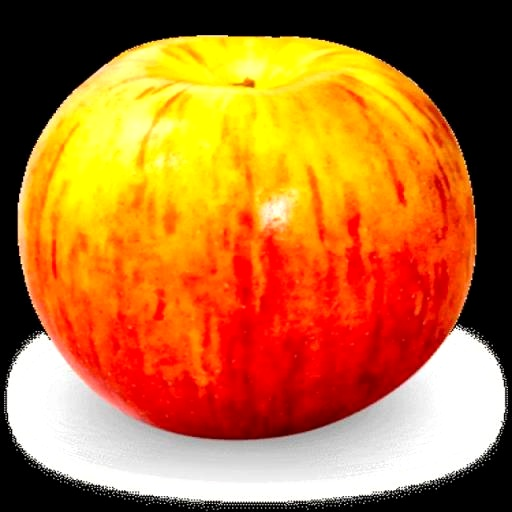fruit: (19, 37, 474, 438)
